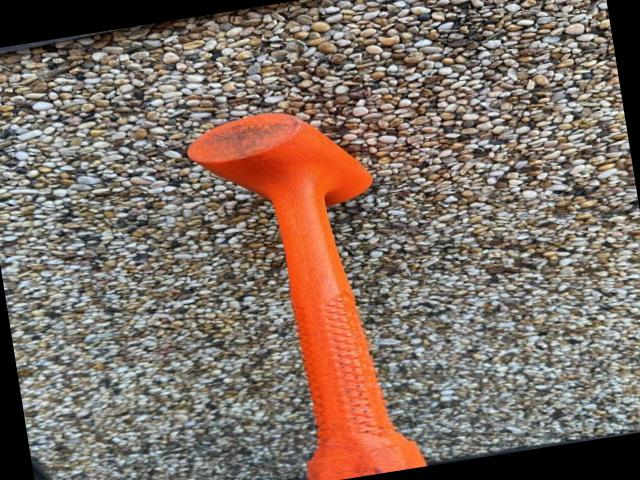hammer: (179, 97, 432, 480)
